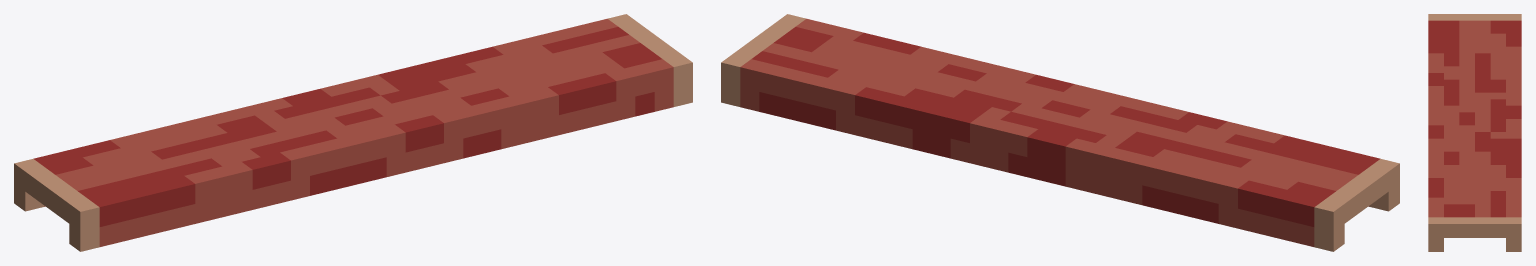
Rendered from roady_cross_assets-16.obj.
The picture shows the model from 3 angles, left to right: view 1: azimuth 30°, elevation 25°; view 2: azimuth 150°, elevation 25°; view 3: azimuth 270°, elevation 25°; orthographic projection. The views are drawn at different scales.
Bounding box in the file's own units: 3.2 × 0.2 × 0.6.
1 material, 1 textured.
